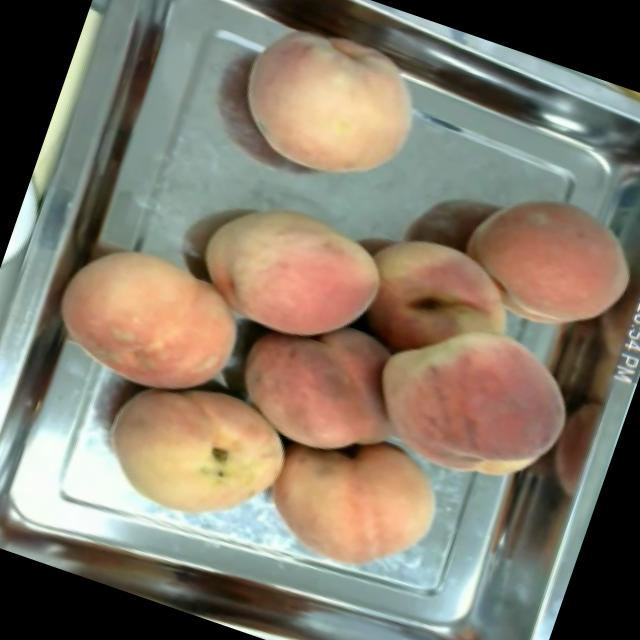Fruit: (346, 288, 599, 511), (80, 346, 310, 552), (35, 217, 266, 422), (218, 2, 442, 204), (213, 280, 432, 483), (178, 175, 404, 368), (244, 402, 463, 600), (440, 165, 640, 355), (335, 212, 540, 394)
